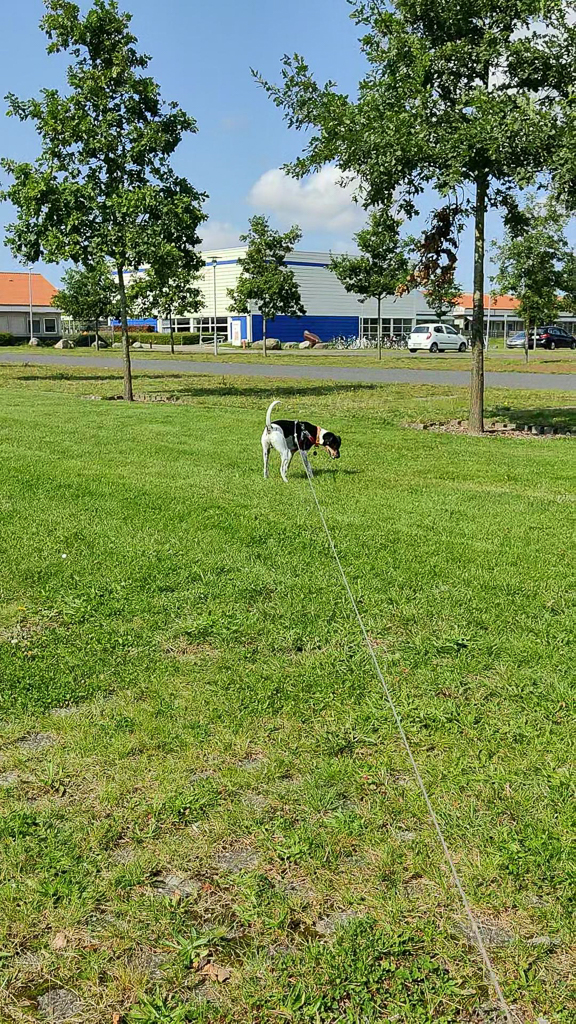Dog: (250, 394, 350, 491)
